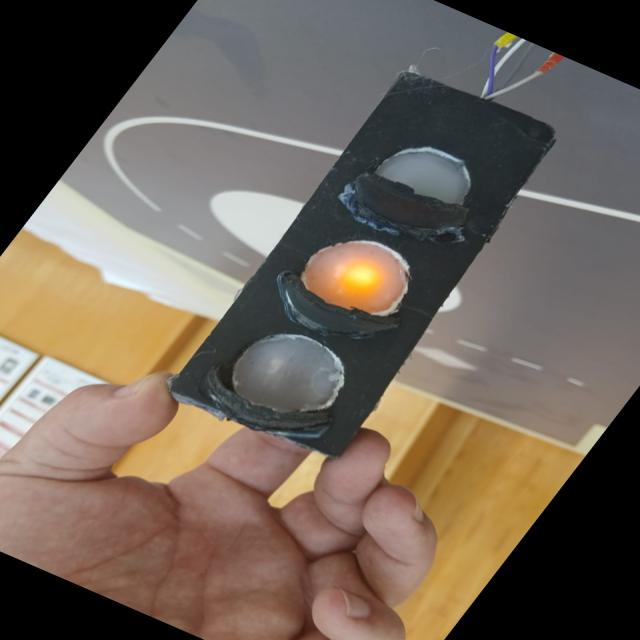trafic lights: (169, 70, 553, 456)
yellow: (301, 240, 408, 316)
